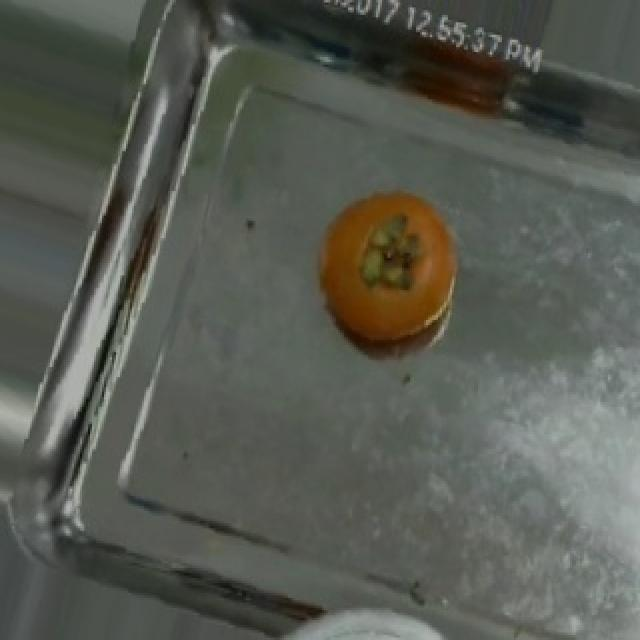Fruit: (296, 168, 476, 364)
